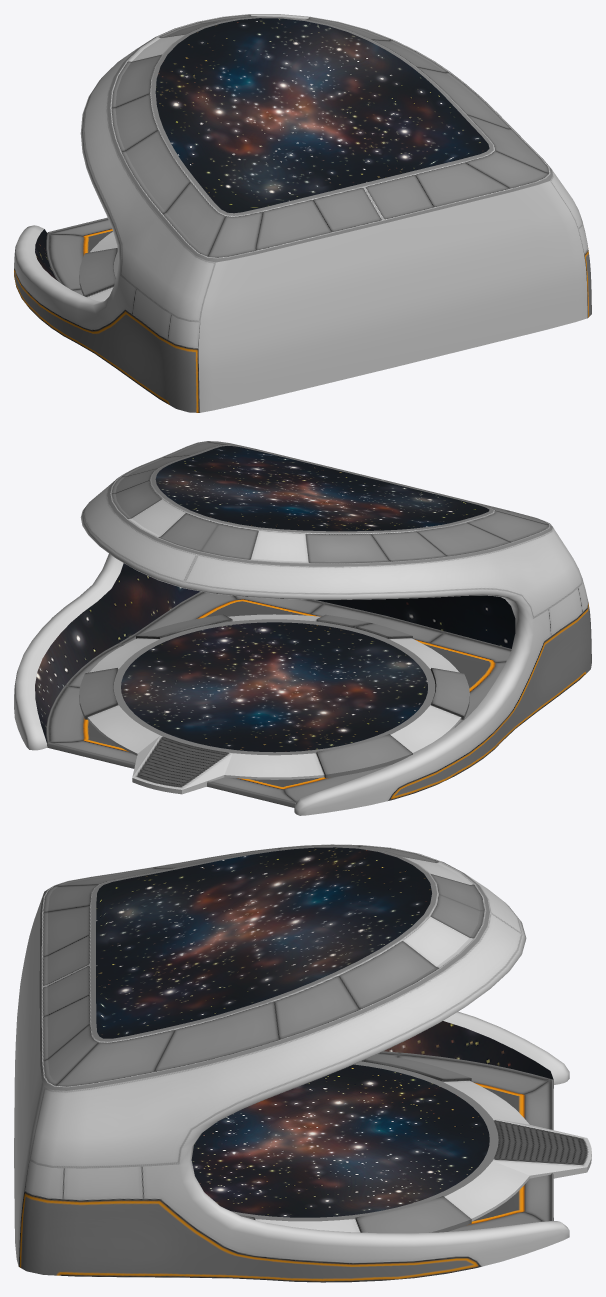
Rendered from Planetary_Orbital_Pod.fbx.
3 renders of one model, top to bottom at view 1: azimuth 30°, elevation 25°; view 2: azimuth 150°, elevation 25°; view 3: azimuth 270°, elevation 25°, orthographic. The views are drawn at different scales.
Visible parts, largest first — view 1: Planetary_Orbital_Pod; view 2: Planetary_Orbital_Pod; view 3: Planetary_Orbital_Pod.
Part boxes in pixels (left/top/right/bottom): Planetary_Orbital_Pod: left=14, top=14, right=591, bottom=412; Planetary_Orbital_Pod: left=14, top=441, right=591, bottom=815; Planetary_Orbital_Pod: left=14, top=844, right=591, bottom=1282.
Size of the model in its own units: 1905 by 928 by 1836.
Materials: 3 (2 with a texture image).
